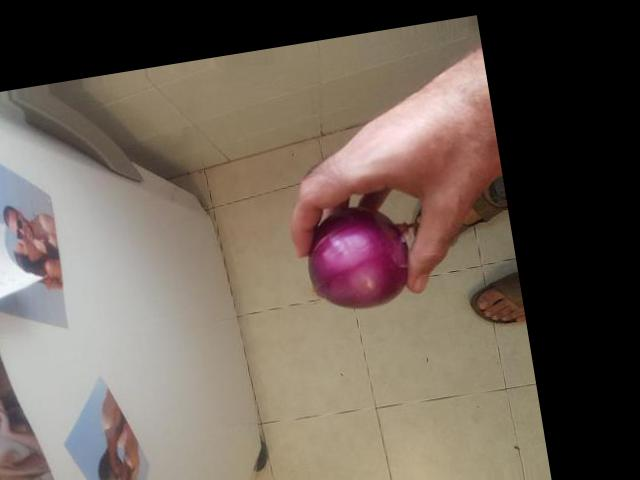onion: (293, 184, 432, 321)
